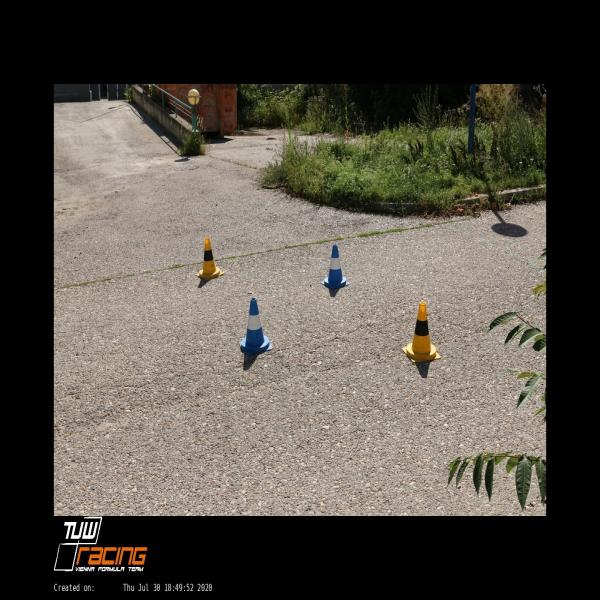blue_cone: (239, 298, 273, 354), (320, 244, 350, 290)
yellow_cone: (403, 301, 440, 362), (196, 237, 224, 280)
